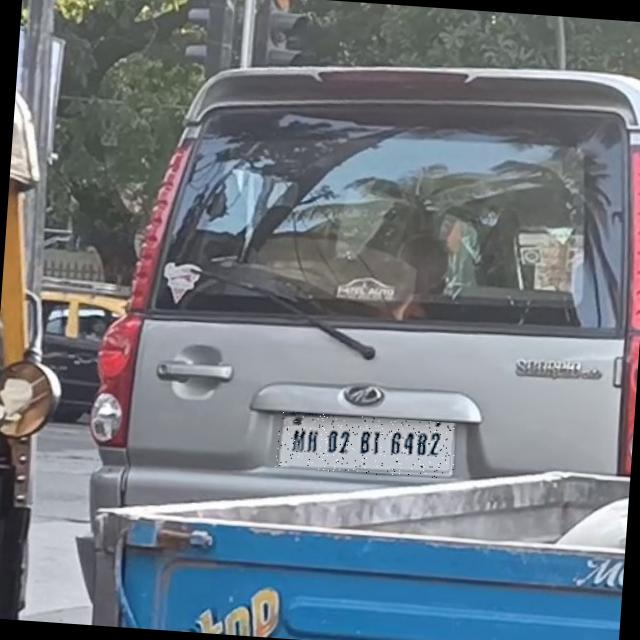Plate: (276, 412, 458, 481)
